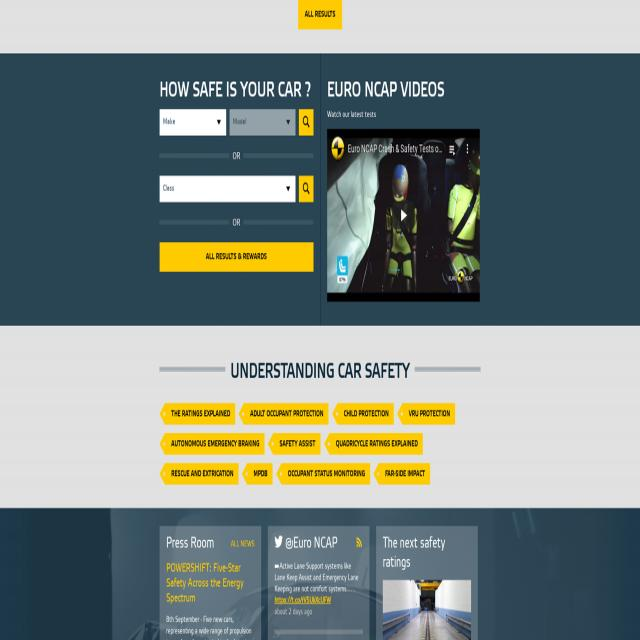button: (327, 129, 481, 301), (382, 580, 471, 640), (160, 242, 314, 272), (160, 433, 264, 455), (324, 433, 422, 455), (276, 462, 370, 484), (238, 403, 328, 424), (160, 463, 238, 484), (159, 403, 235, 424), (298, 0, 342, 30), (332, 403, 394, 424), (397, 403, 455, 424), (374, 463, 430, 484), (268, 433, 320, 455), (242, 463, 272, 484), (299, 110, 313, 136), (299, 176, 313, 202), (355, 535, 363, 549), (274, 536, 283, 547)
field: (160, 176, 296, 202), (159, 109, 226, 135), (230, 109, 296, 135)
